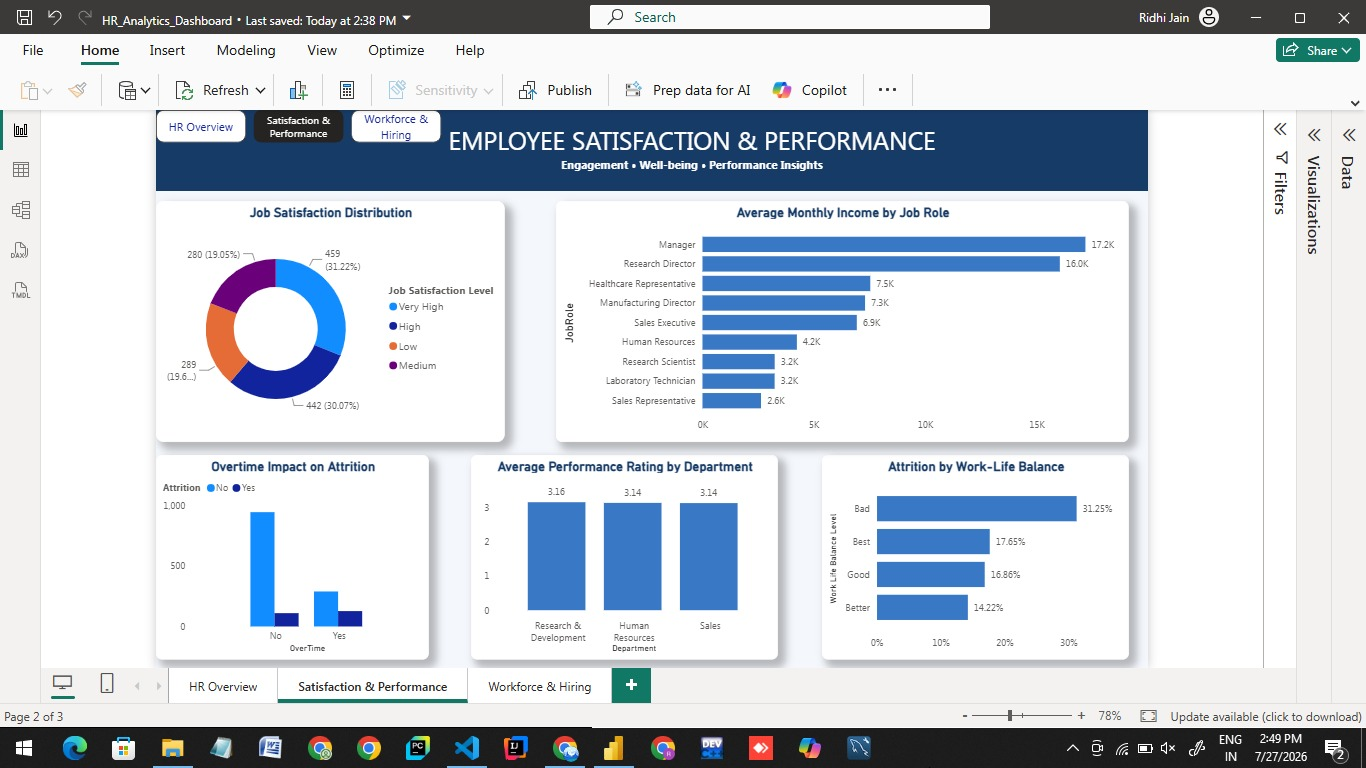

This screenshot's page, from the dashboard's own definition file:
{"tool":"powerbi","page":{"name":"Satisfaction & Performance","canvas":[1280,720],"ordinal":1},"visuals":[{"type":"shape","box":[0,0,1280,104.5],"z":0},{"type":"textbox","box":[103.2,11,1176.8,93.6],"z":1000},{"type":"donutChart","title":"Job Satisfaction Distribution","fields":{"Category":["WA_Fn-UseC_-HR-Employee-Attrition.Job Satisfaction Level"],"Y":["WA_Fn-UseC_-HR-Employee-Attrition.Total Employees"]},"box":[0,117,450.1,311.1],"z":2000},{"type":"clusteredColumnChart","title":"Overtime Impact on Attrition","fields":{"Category":["WA_Fn-UseC_-HR-Employee-Attrition.OverTime"],"Y":["WA_Fn-UseC_-HR-Employee-Attrition.Total Employees"],"Series":["WA_Fn-UseC_-HR-Employee-Attrition.Attrition"]},"box":[0,444.6,352.3,264.3],"z":3000},{"type":"clusteredColumnChart","title":"Average Performance Rating by Department","fields":{"Category":["WA_Fn-UseC_-HR-Employee-Attrition.Department"],"Y":["WA_Fn-UseC_-HR-Employee-Attrition.Average Performance Rating"]},"box":[406,444.6,396.4,264.3],"z":4000},{"type":"clusteredBarChart","title":"Attrition by Work-Life Balance","fields":{"Category":["WA_Fn-UseC_-HR-Employee-Attrition.Work Life Balance Level"],"Y":["WA_Fn-UseC_-HR-Employee-Attrition.Attrition Rate"]},"box":[858.8,444.6,396.4,264.3],"z":5000},{"type":"clusteredBarChart","title":"Average Monthly Income by Job Role","fields":{"Category":["WA_Fn-UseC_-HR-Employee-Attrition.JobRole"],"Y":["WA_Fn-UseC_-HR-Employee-Attrition.Average Monthly Income"]},"box":[516.1,117,739.1,311.1],"z":6000},{"type":"pageNavigator","box":[0,0,370.2,42.7],"z":10000}]}

Visuals, with their boxes on the page's 1280x720 design canvas (x1, y1, x2, y2). These are canvas units, not pixel positions in the 1366x768 screenshot, which may show the page scaled, cropped or inside an application window:
shape: x1=0, y1=0, x2=1280, y2=104
textbox: x1=103, y1=11, x2=1280, y2=105
"Job Satisfaction Distribution" donutChart: x1=0, y1=117, x2=450, y2=428
"Overtime Impact on Attrition" clusteredColumnChart: x1=0, y1=445, x2=352, y2=709
"Average Performance Rating by Department" clusteredColumnChart: x1=406, y1=445, x2=802, y2=709
"Attrition by Work-Life Balance" clusteredBarChart: x1=859, y1=445, x2=1255, y2=709
"Average Monthly Income by Job Role" clusteredBarChart: x1=516, y1=117, x2=1255, y2=428
pageNavigator: x1=0, y1=0, x2=370, y2=43
